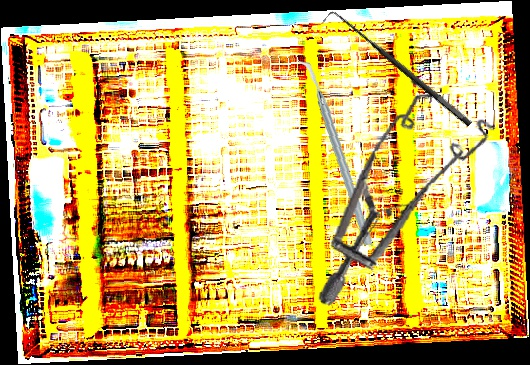Chopper: (280, 60, 390, 246)
Hook Surgical: (321, 5, 474, 138)
Speculum: (316, 71, 500, 321)
